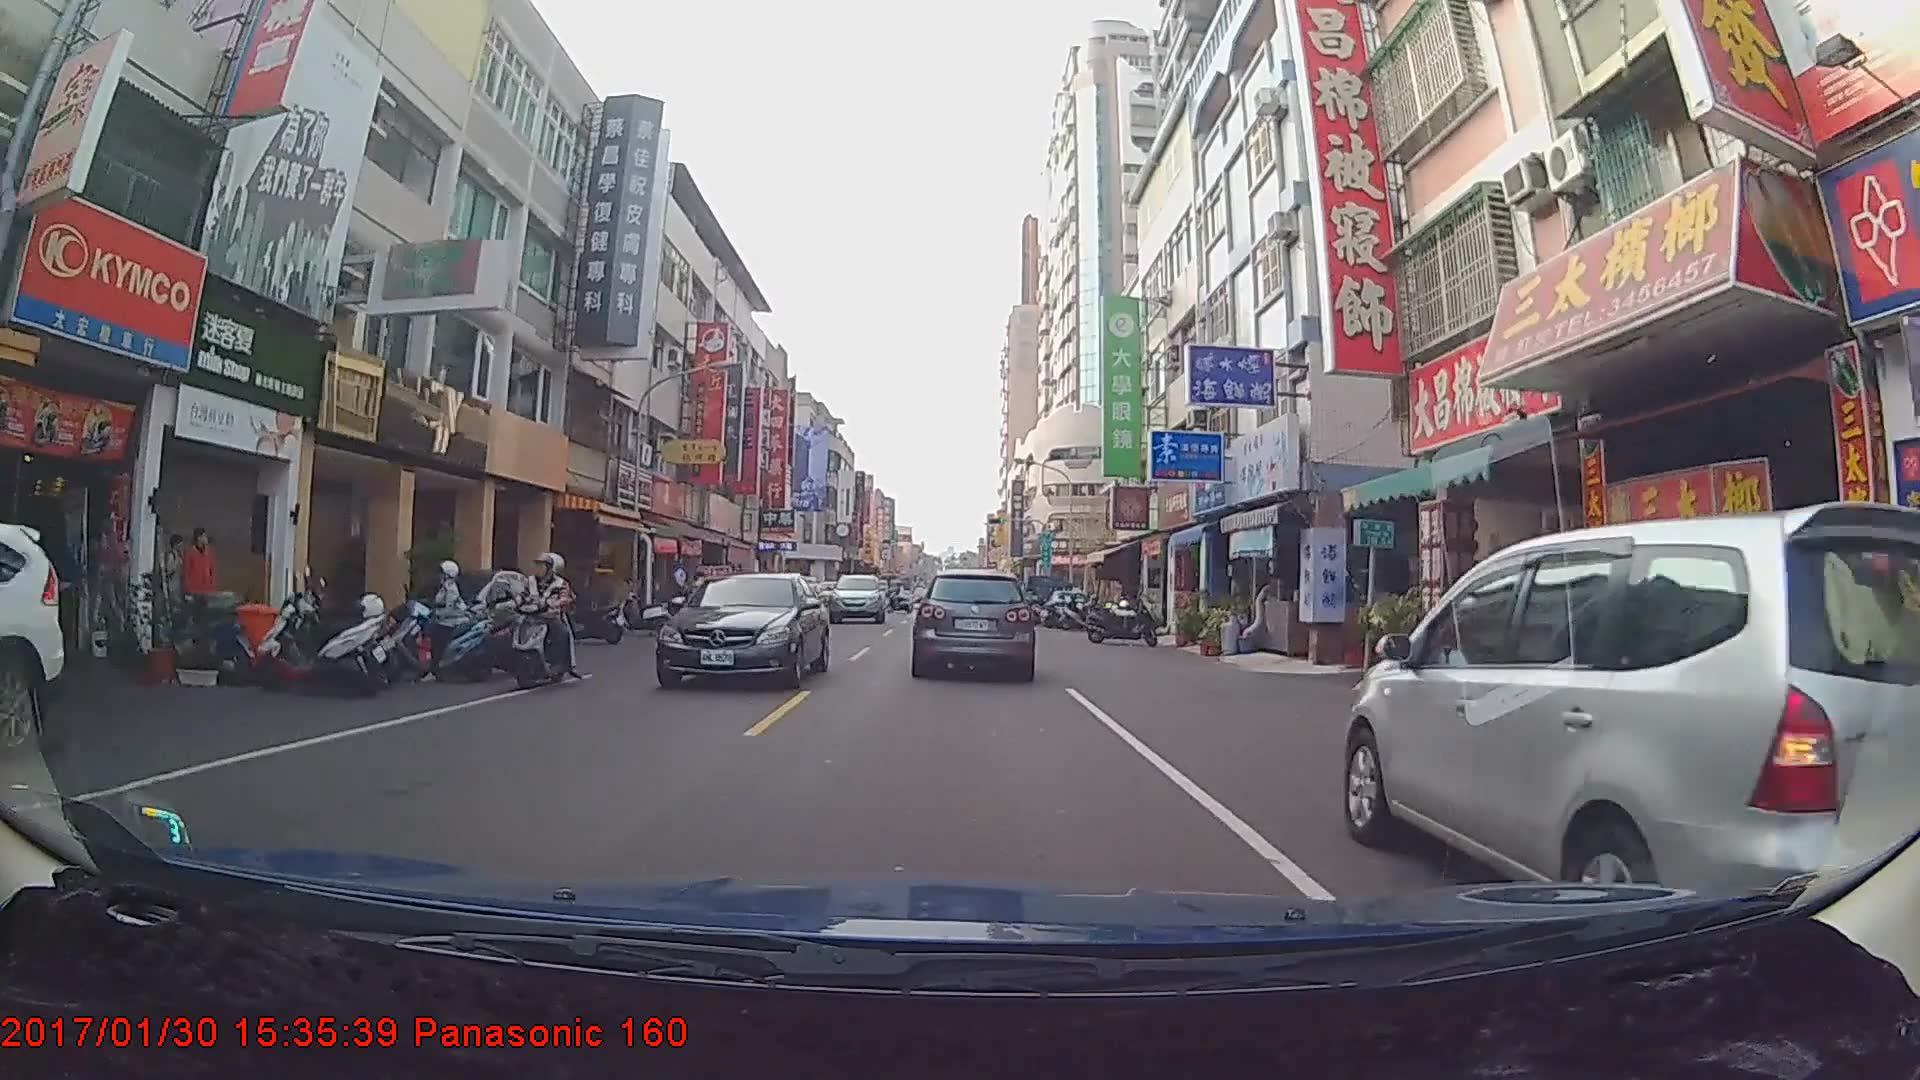pedestrian: (179, 520, 226, 642), (157, 523, 191, 640)
rider: (502, 545, 580, 693)
vehicle: (1345, 508, 1919, 945), (655, 571, 832, 691), (913, 569, 1033, 679), (829, 574, 885, 623)
